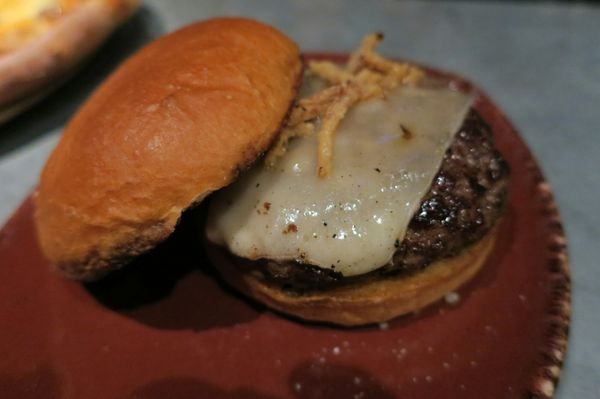soup: (32, 18, 307, 310)
